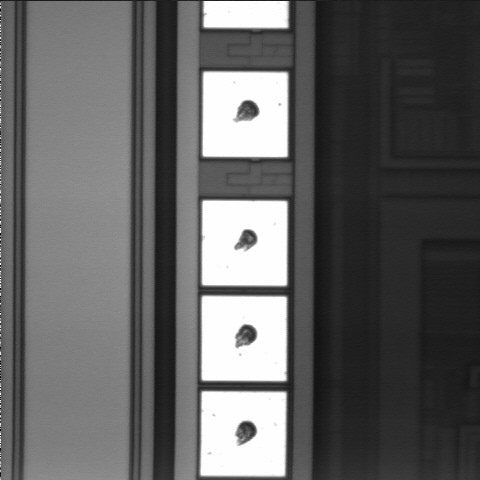pad: (203, 72, 288, 157), (202, 201, 287, 286), (202, 296, 287, 381), (201, 391, 286, 476)
